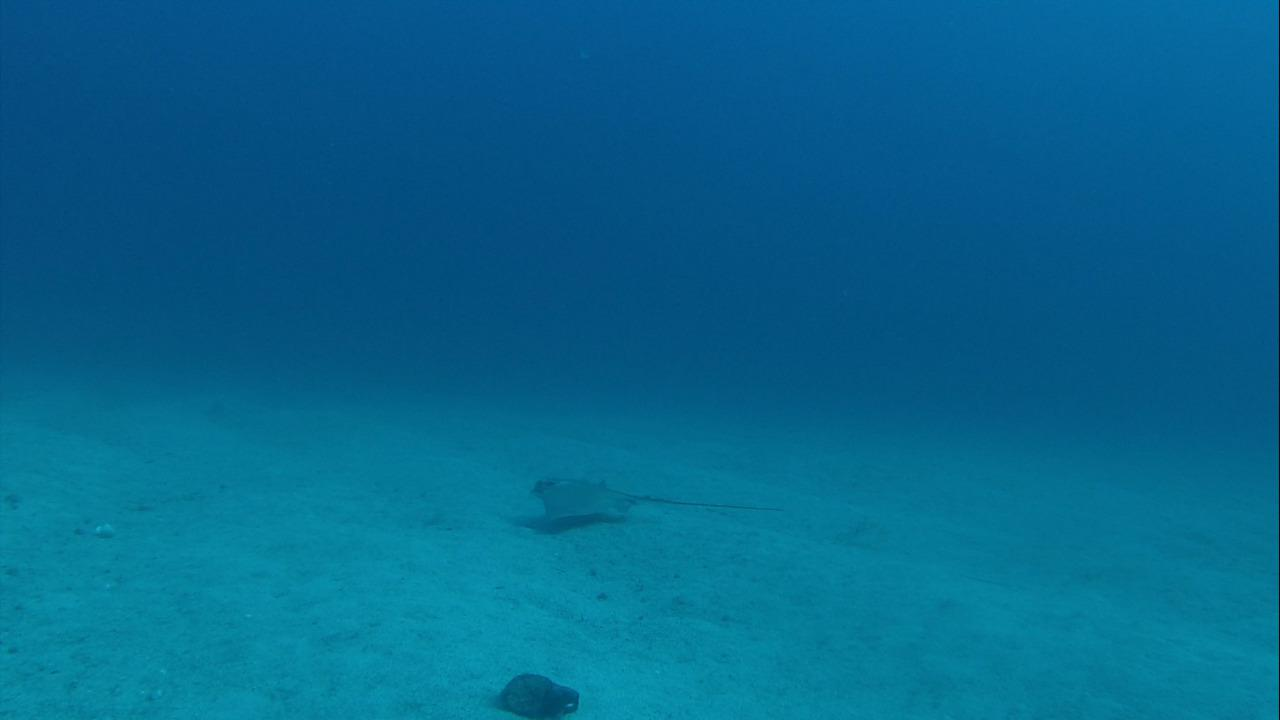myliobatis: (516, 467, 796, 536)
